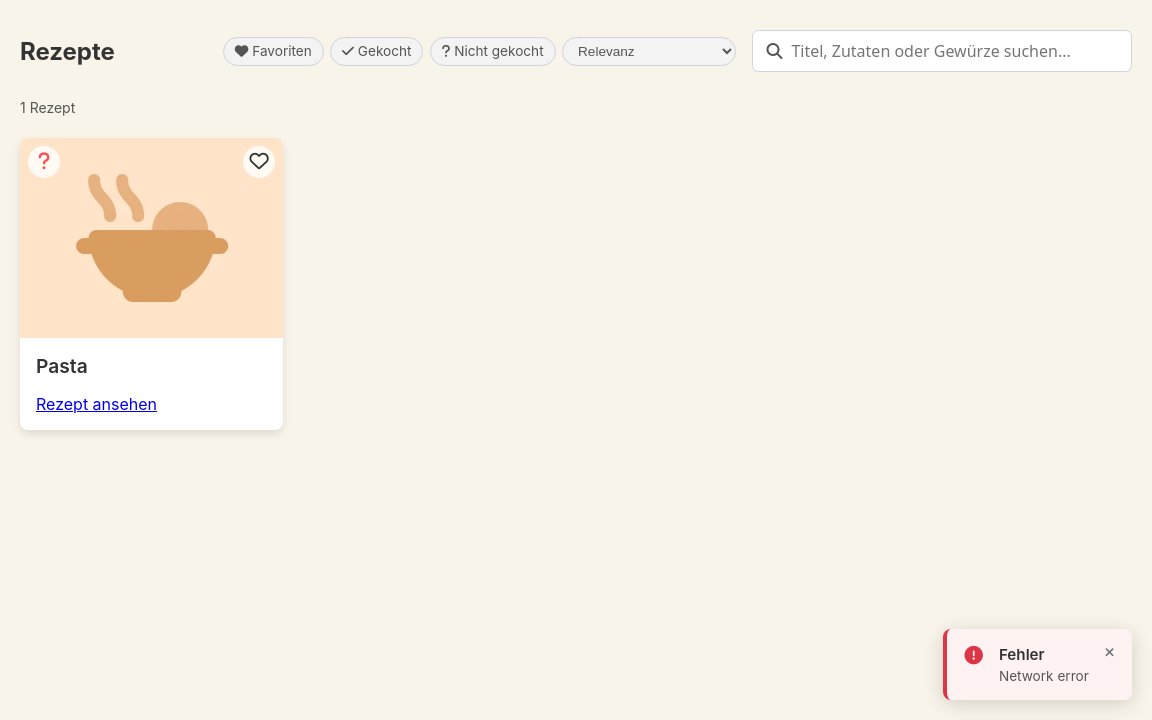
Test: RecipeList error handling › dismisses the toast when the close button is clicked
Expected: the message "Fehler Network error" is shown, [943,629,1132,700]
Click the button named "schließen". click: [1110, 654]
box: [1105,647,1114,660]
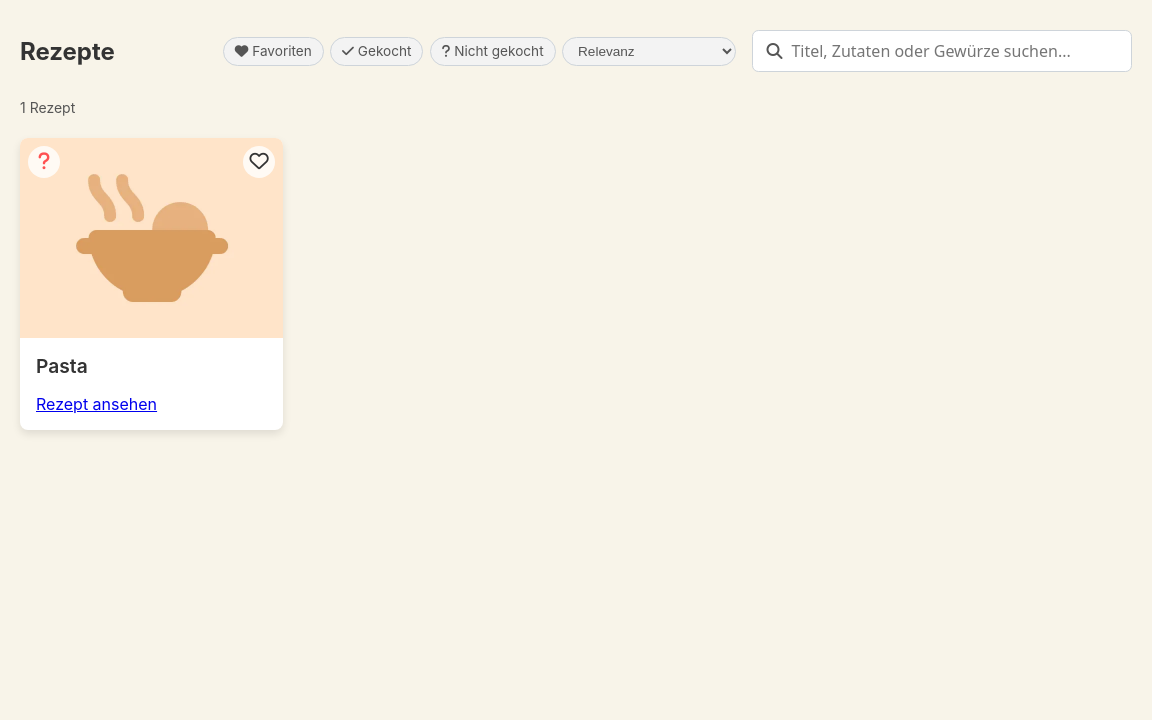
Expected: the message "Fehler Network error" is gone
